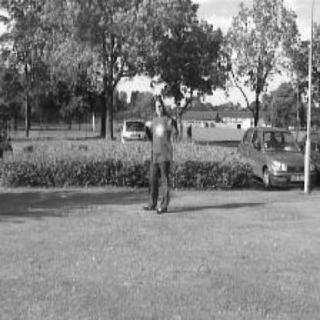other: (143, 109, 181, 163)
